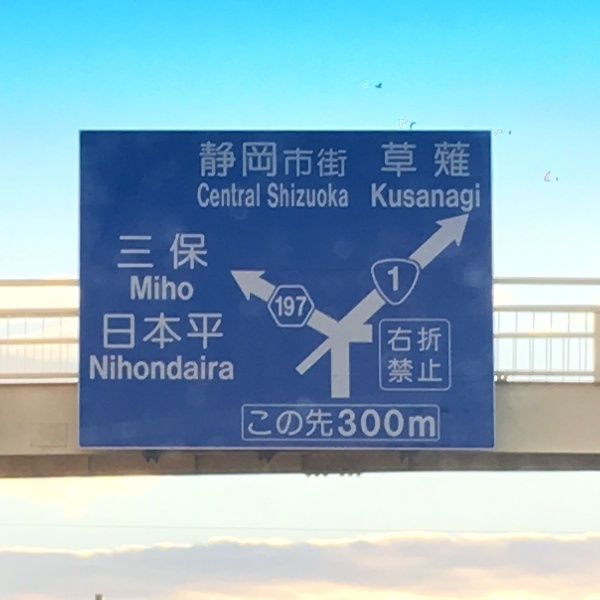text: (401, 325, 416, 385), (417, 325, 432, 385), (387, 325, 400, 385), (129, 232, 144, 276), (145, 232, 160, 276), (161, 232, 176, 276), (177, 232, 192, 276), (193, 232, 208, 276), (433, 325, 444, 385), (209, 312, 225, 351), (209, 140, 224, 181), (225, 140, 240, 181), (241, 140, 256, 181), (257, 140, 272, 181), (273, 140, 288, 181), (289, 140, 304, 181), (305, 140, 320, 181), (321, 140, 336, 181), (385, 138, 400, 178), (401, 138, 416, 178), (417, 138, 432, 178), (433, 138, 448, 178), (449, 138, 464, 178), (113, 312, 128, 351), (129, 312, 144, 351), (145, 312, 160, 351), (161, 312, 176, 351), (177, 312, 192, 351), (193, 312, 208, 351), (257, 403, 272, 437), (273, 403, 288, 437), (289, 403, 304, 437), (305, 403, 320, 437), (321, 403, 336, 437), (337, 403, 352, 437), (353, 403, 368, 437), (369, 403, 384, 437), (385, 403, 400, 437), (401, 403, 416, 437), (417, 403, 432, 437), (337, 140, 349, 181), (385, 182, 400, 214), (401, 182, 416, 214), (417, 182, 432, 214), (433, 182, 448, 214), (449, 182, 464, 214), (465, 182, 480, 214), (97, 354, 112, 385), (113, 354, 128, 385), (129, 354, 144, 385), (145, 354, 160, 385), (161, 354, 176, 385), (177, 354, 192, 385), (193, 354, 208, 385), (209, 354, 224, 385), (273, 181, 288, 211), (289, 181, 304, 211), (305, 181, 320, 211), (321, 181, 336, 211), (370, 182, 384, 214), (118, 232, 128, 276), (129, 275, 144, 303), (145, 275, 160, 303), (161, 275, 176, 303), (177, 275, 192, 303), (209, 183, 224, 210), (225, 183, 240, 210), (241, 183, 256, 210), (289, 294, 304, 320), (387, 265, 400, 295), (337, 181, 350, 211), (199, 140, 208, 181), (465, 138, 474, 178), (103, 312, 112, 351), (276, 294, 288, 320), (225, 354, 235, 385), (247, 403, 256, 437), (198, 183, 208, 210), (89, 354, 96, 385), (380, 138, 384, 178), (267, 181, 272, 211), (433, 403, 437, 437), (257, 183, 261, 210), (305, 294, 308, 320), (209, 232, 210, 276), (481, 182, 482, 214), (193, 275, 194, 303)
